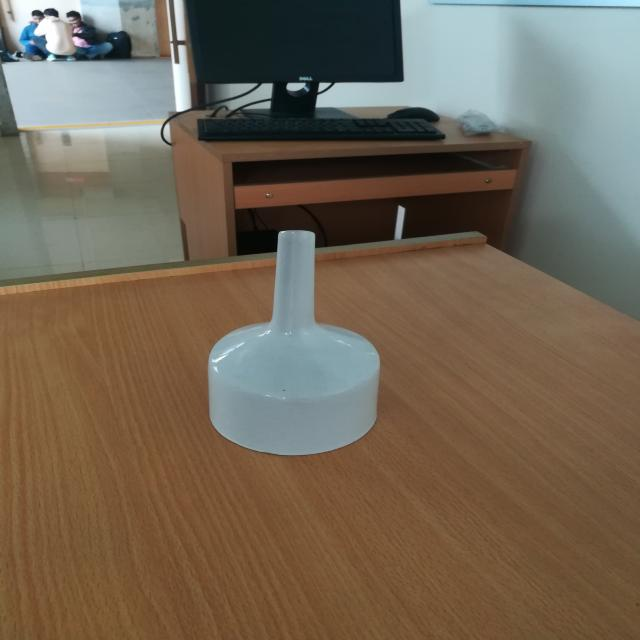Buchner_Funnel: (153, 199, 428, 492)
